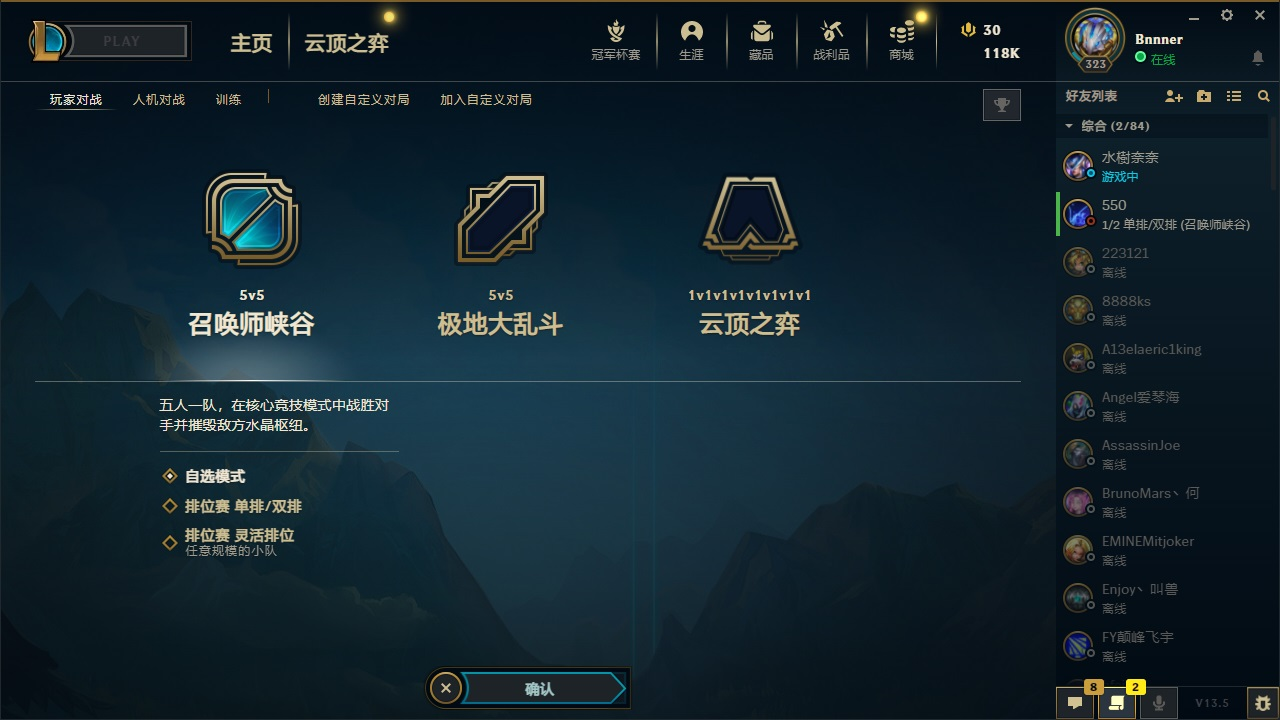HSPLAY: (62, 17, 190, 61)
QR: (472, 669, 607, 704)
RJDZ: (127, 83, 191, 115)
